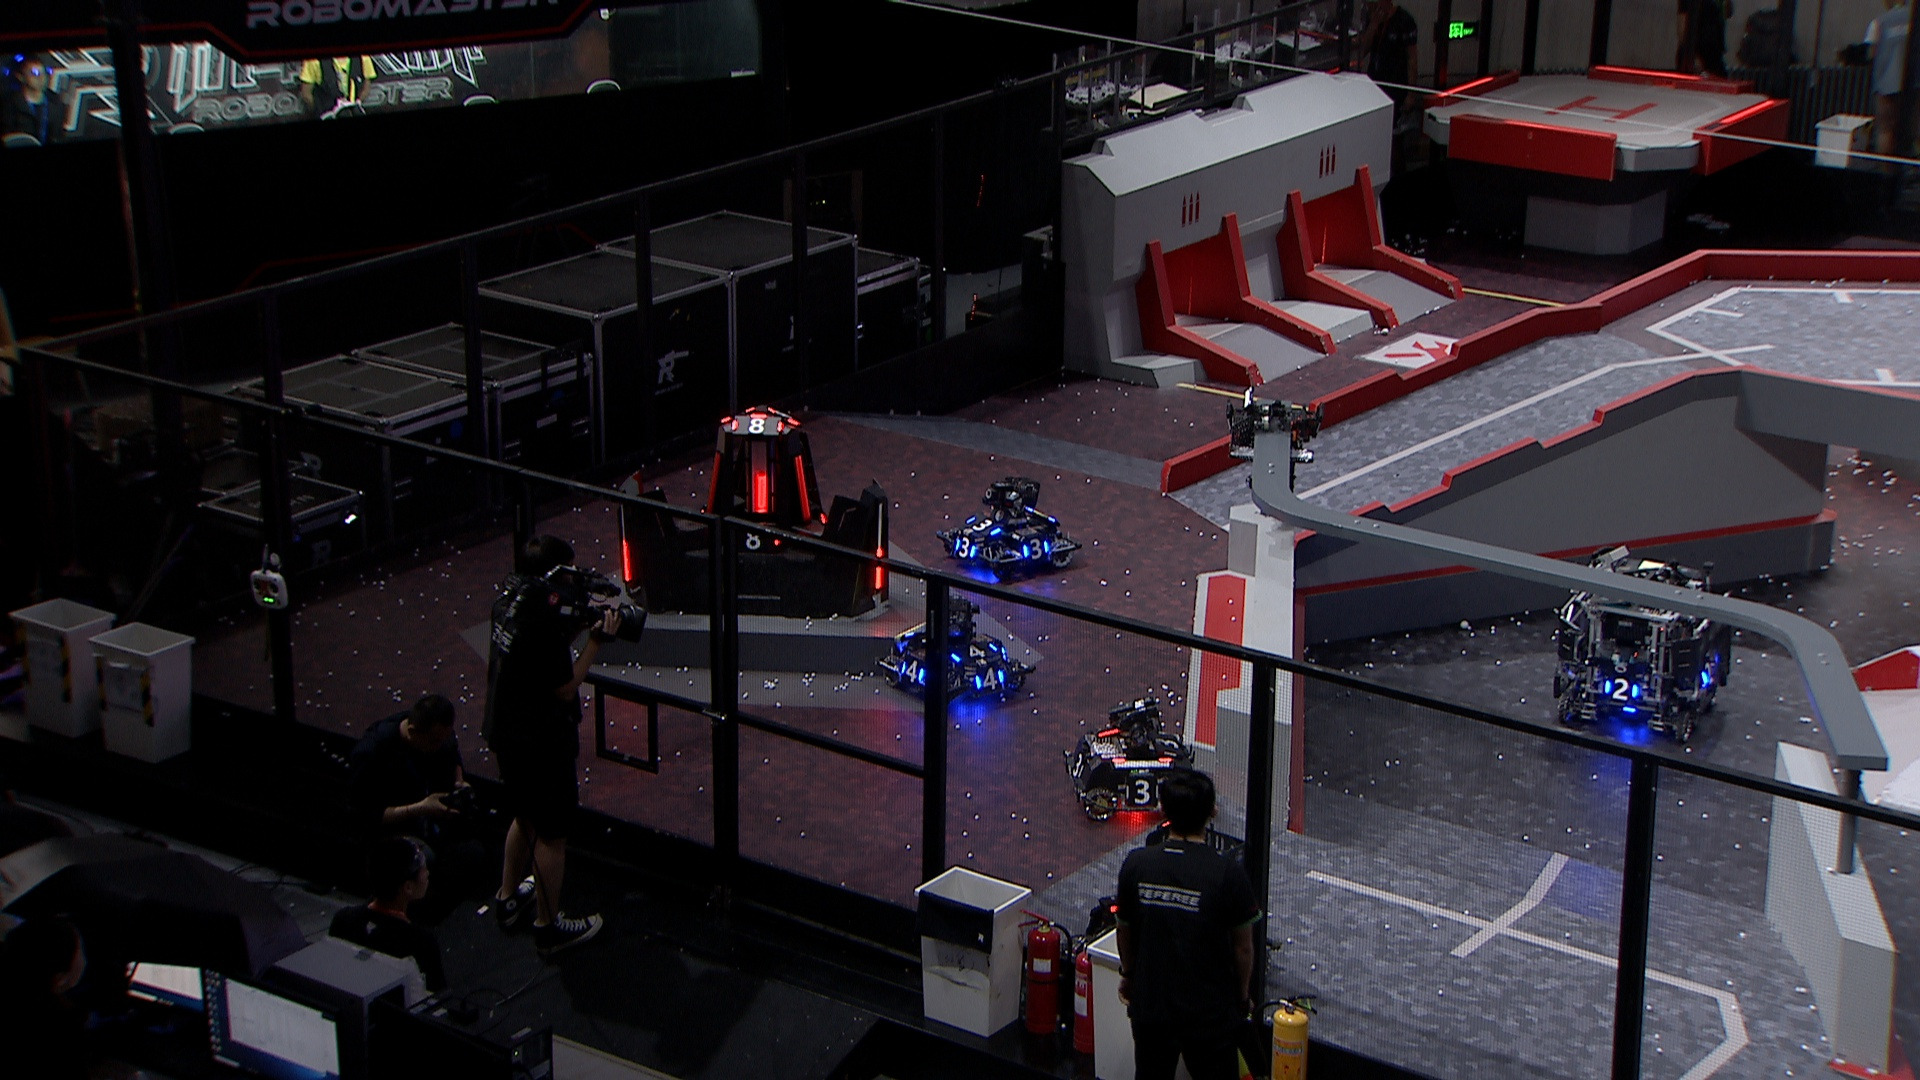armor: (700, 447, 723, 517), (793, 452, 814, 518), (752, 471, 773, 518), (732, 529, 781, 549), (728, 417, 785, 433), (972, 666, 1005, 692), (1600, 679, 1640, 700), (1122, 779, 1160, 802), (953, 641, 996, 659), (968, 513, 1000, 535), (898, 657, 924, 683), (1153, 728, 1178, 756), (873, 543, 887, 589), (1698, 661, 1722, 684), (953, 534, 975, 559), (1022, 538, 1050, 556), (621, 541, 633, 583), (1068, 749, 1084, 778)
base: (613, 401, 891, 622)
car: (1553, 547, 1735, 742), (1083, 811, 1258, 978), (1059, 694, 1201, 827), (882, 593, 1035, 709), (935, 473, 1083, 585)
watcher: (1220, 385, 1324, 502)
